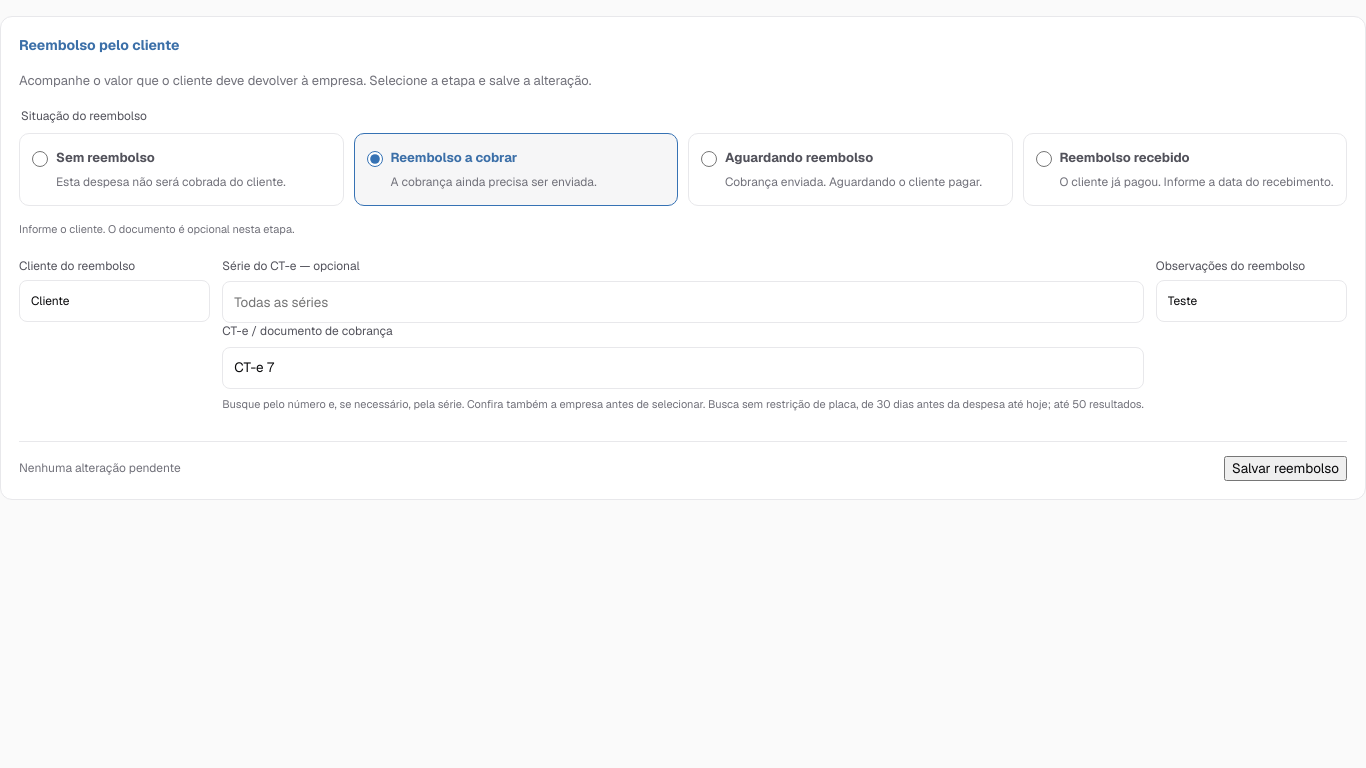
Test case: mostra falha no formulário e preserva os dados para tentar novamente
This screenshot has width=1366, height=768.
Click the button "Salvar reembolso". click: (1285, 468)
box: x1=1224 y1=456 x2=1347 y2=481
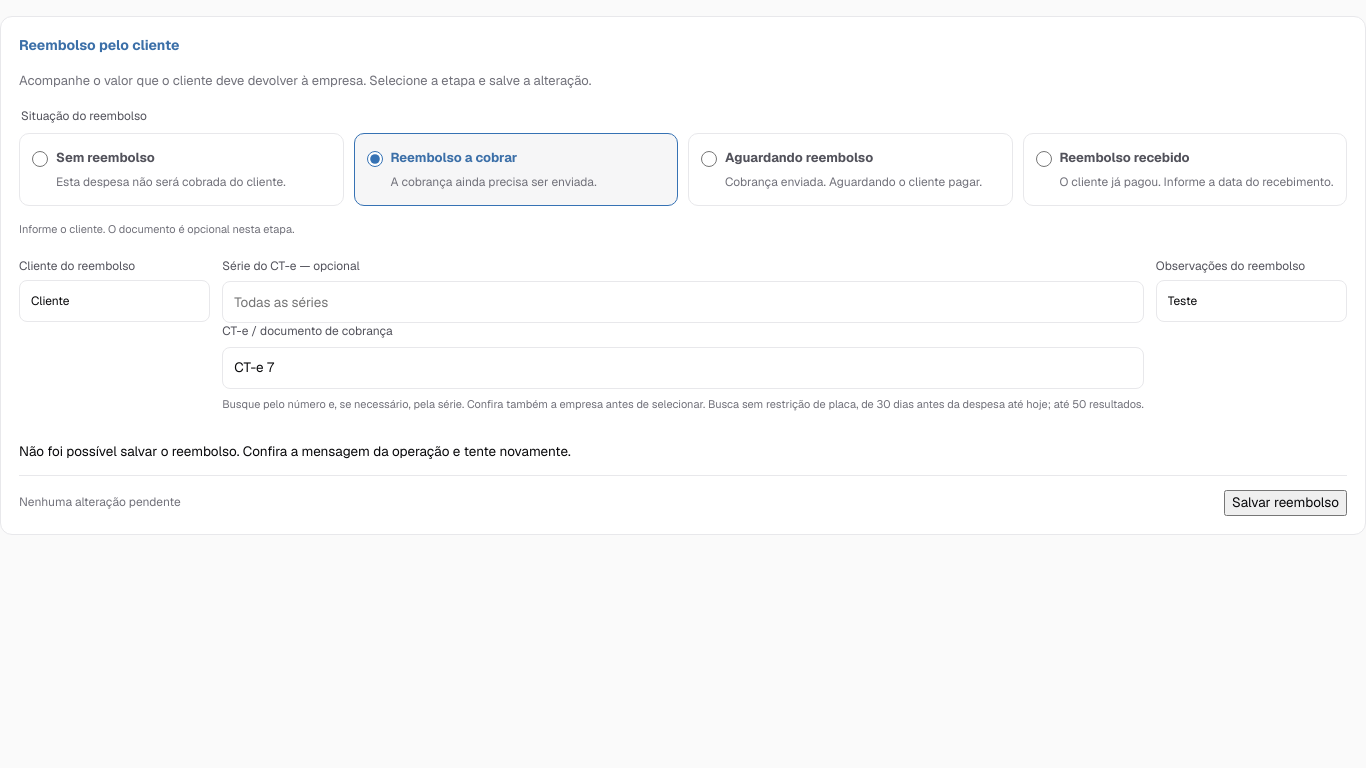
Check: the 1st message shows "Não foi possível salvar", box x1=19 y1=442 x2=571 y2=460
Click the button "Salvar reembolso". click: (1285, 503)
box: x1=1224 y1=490 x2=1347 y2=516
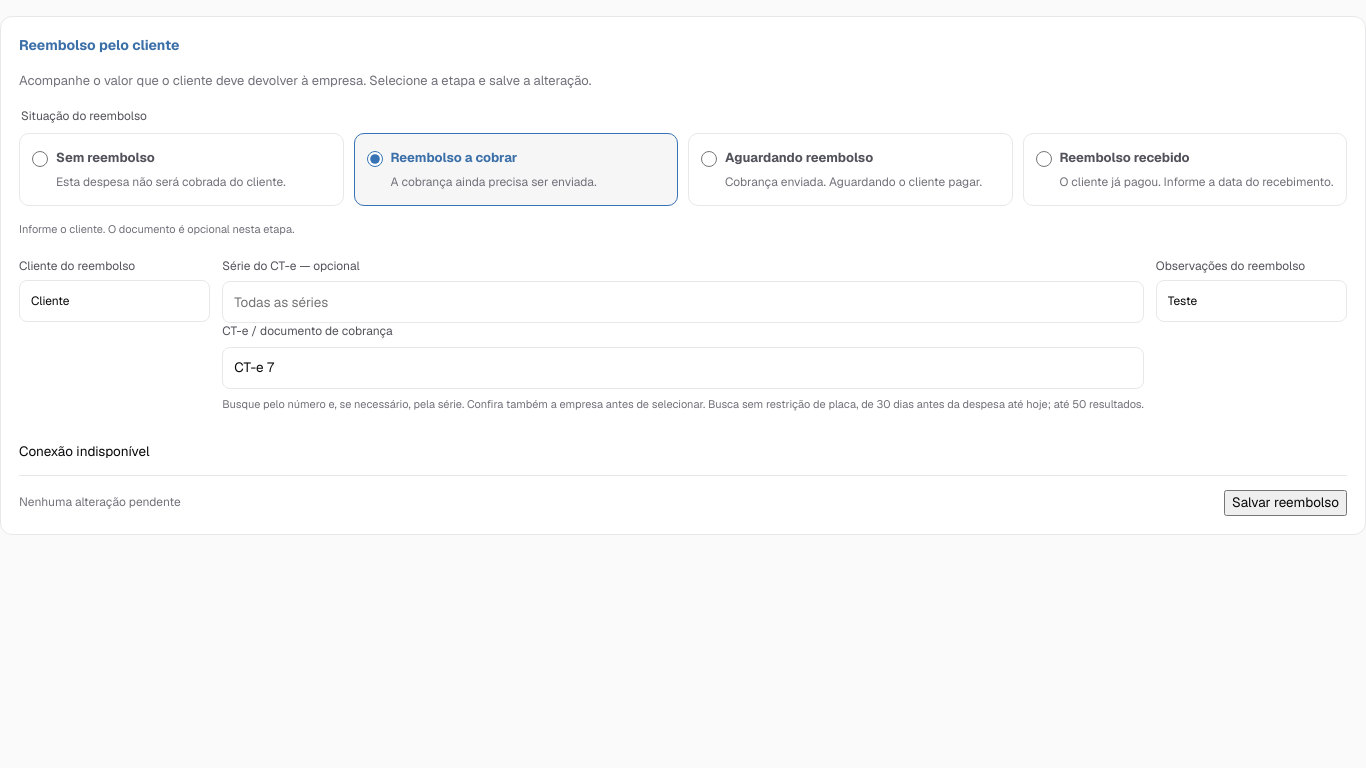
Check: the dropdown labelled "CT-e / documento de cobrança" holds "CT-e 7", box x1=222 y1=347 x2=1144 y2=389
Check: the message "Conexão indisponível" is shown, box x1=19 y1=442 x2=150 y2=460
Click the button "Salvar reembolso". click: (1285, 503)
box: x1=1224 y1=490 x2=1347 y2=516
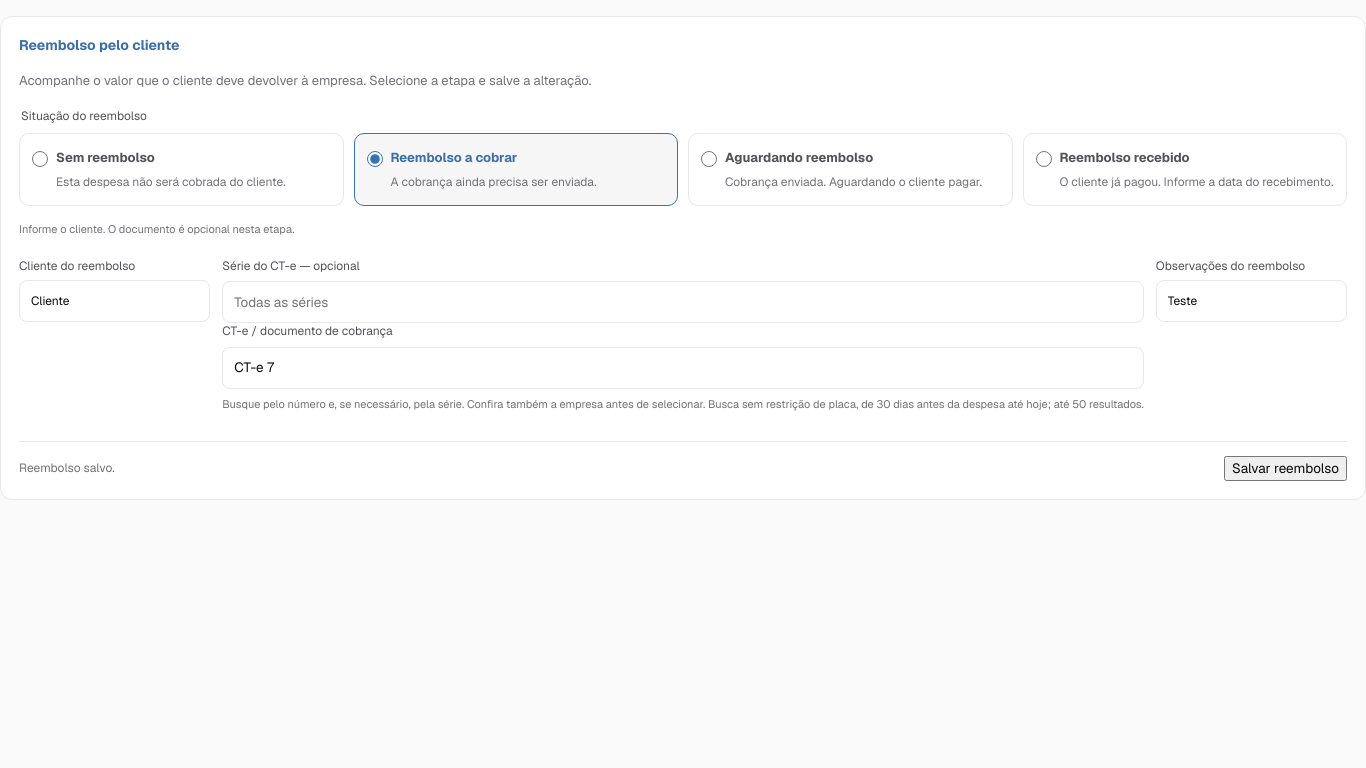
Check: the message "Conexão indisponível" is gone
